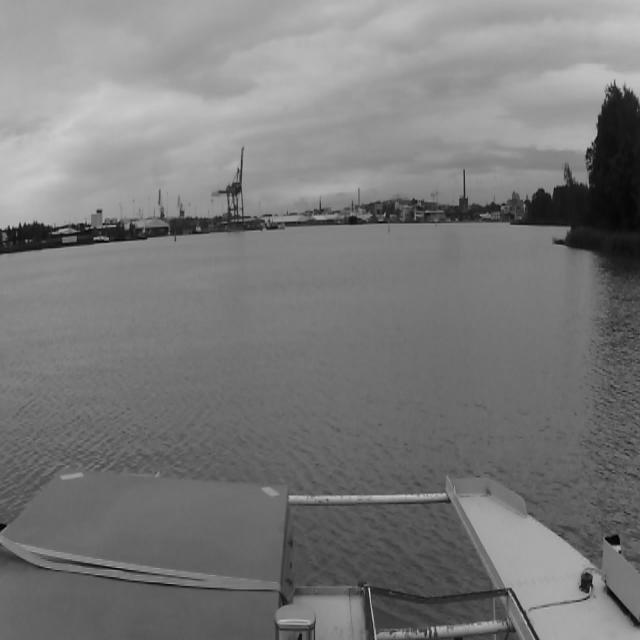buoy: (387, 218, 391, 229), (173, 229, 177, 239)
ship: (348, 197, 358, 226)
